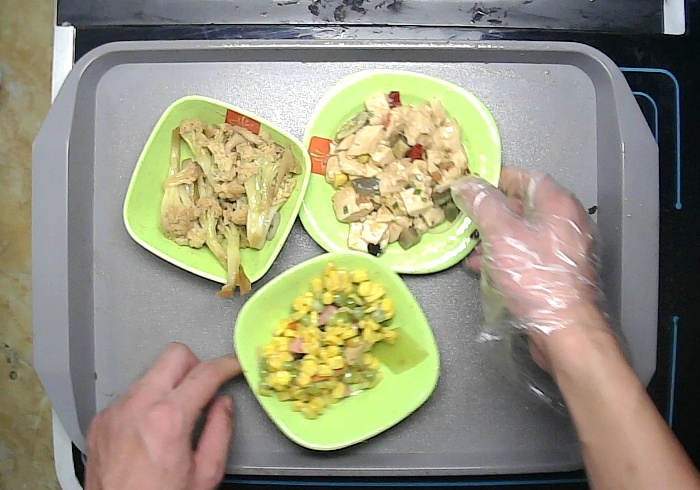SHKJ-Lv_Se_Cai_Die: (231, 249, 441, 451)
SHKJ-Lv_Se_Si_Fang_Cai_Die: (296, 69, 501, 274)
SHKJ-Lv_Se_Xiao_Fang_Die: (123, 93, 312, 285)
